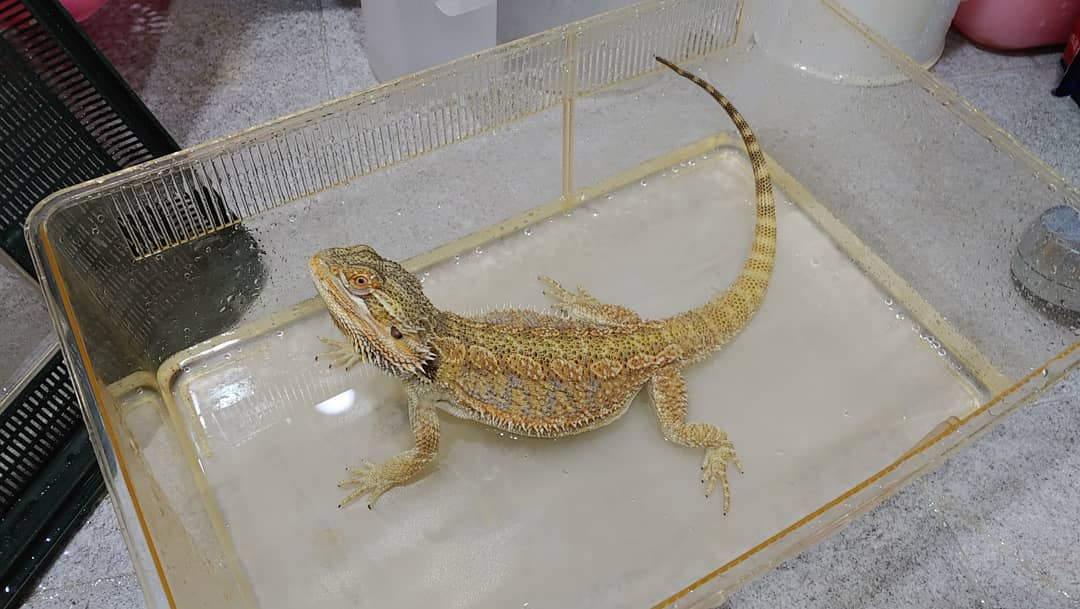bearded: (308, 52, 781, 526)
